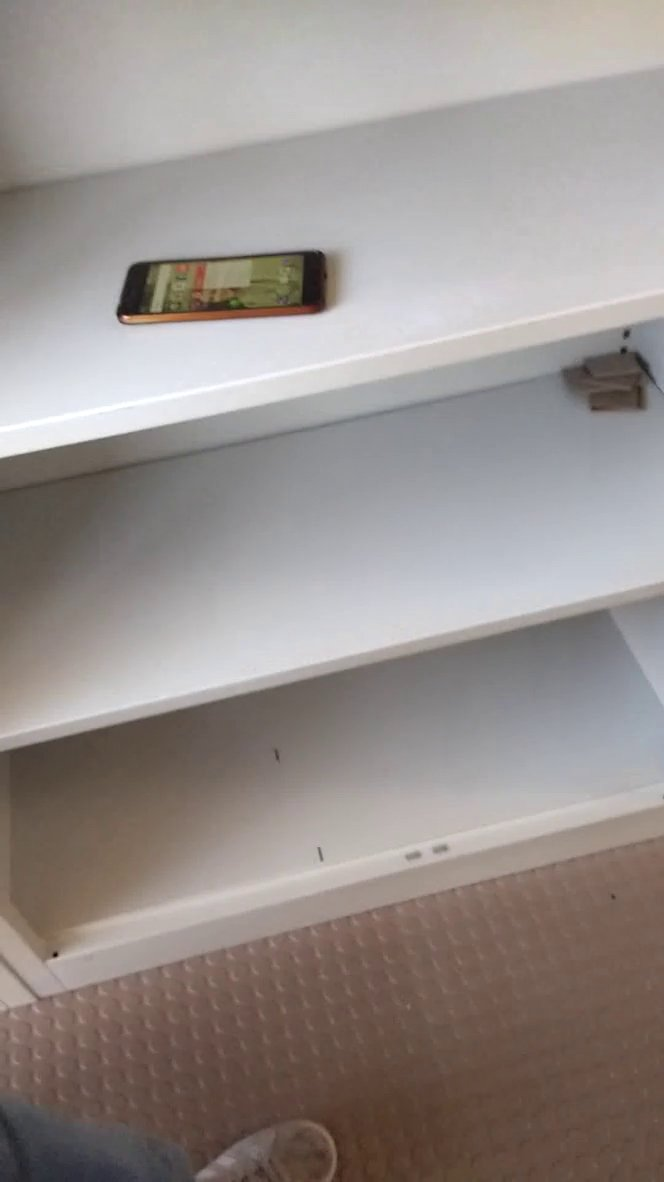phone: (99, 230, 348, 344)
